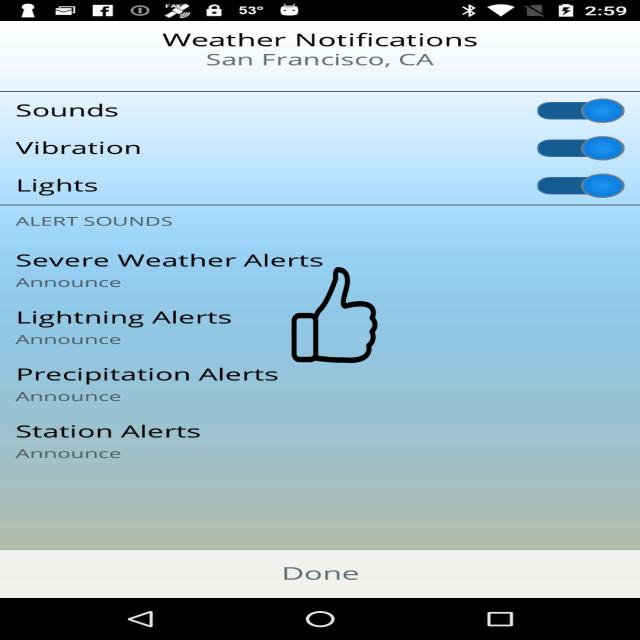privacy zuckering: (290, 267, 379, 363)
